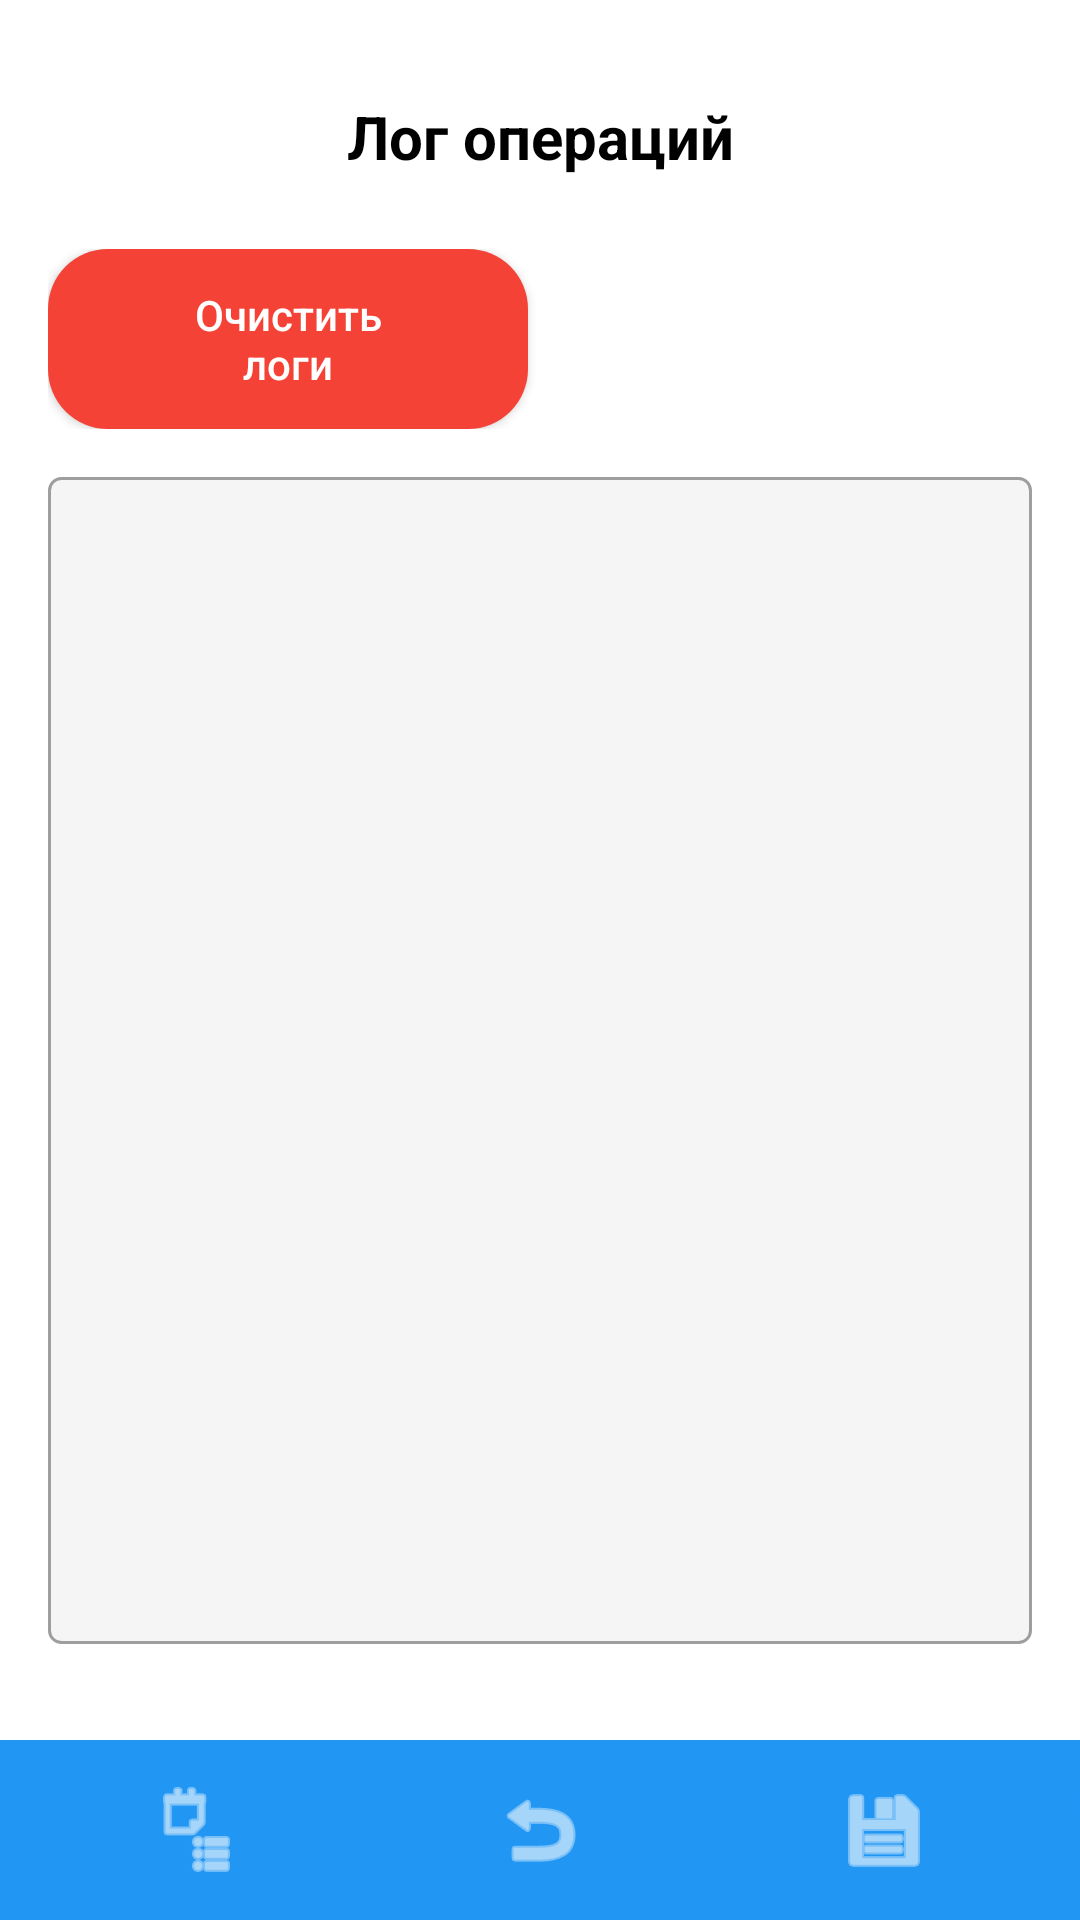

Named icons in this screenshot (1080*1920) and their bounding boxes, box(x1, y1, x2, y2):
Логи: box(163, 1787, 230, 1872)
